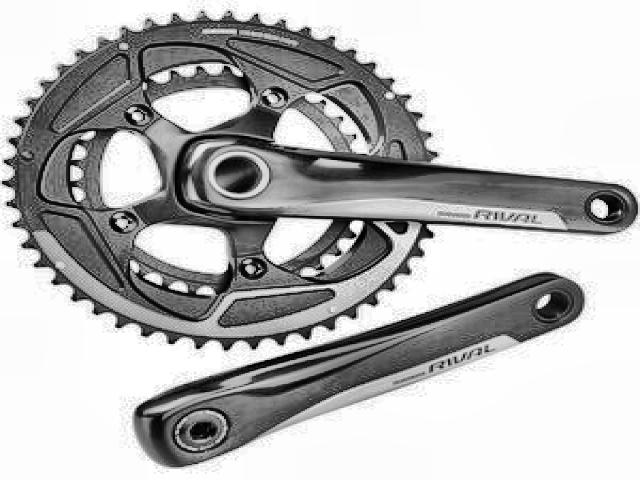cranks_set: (2, 11, 640, 354)
